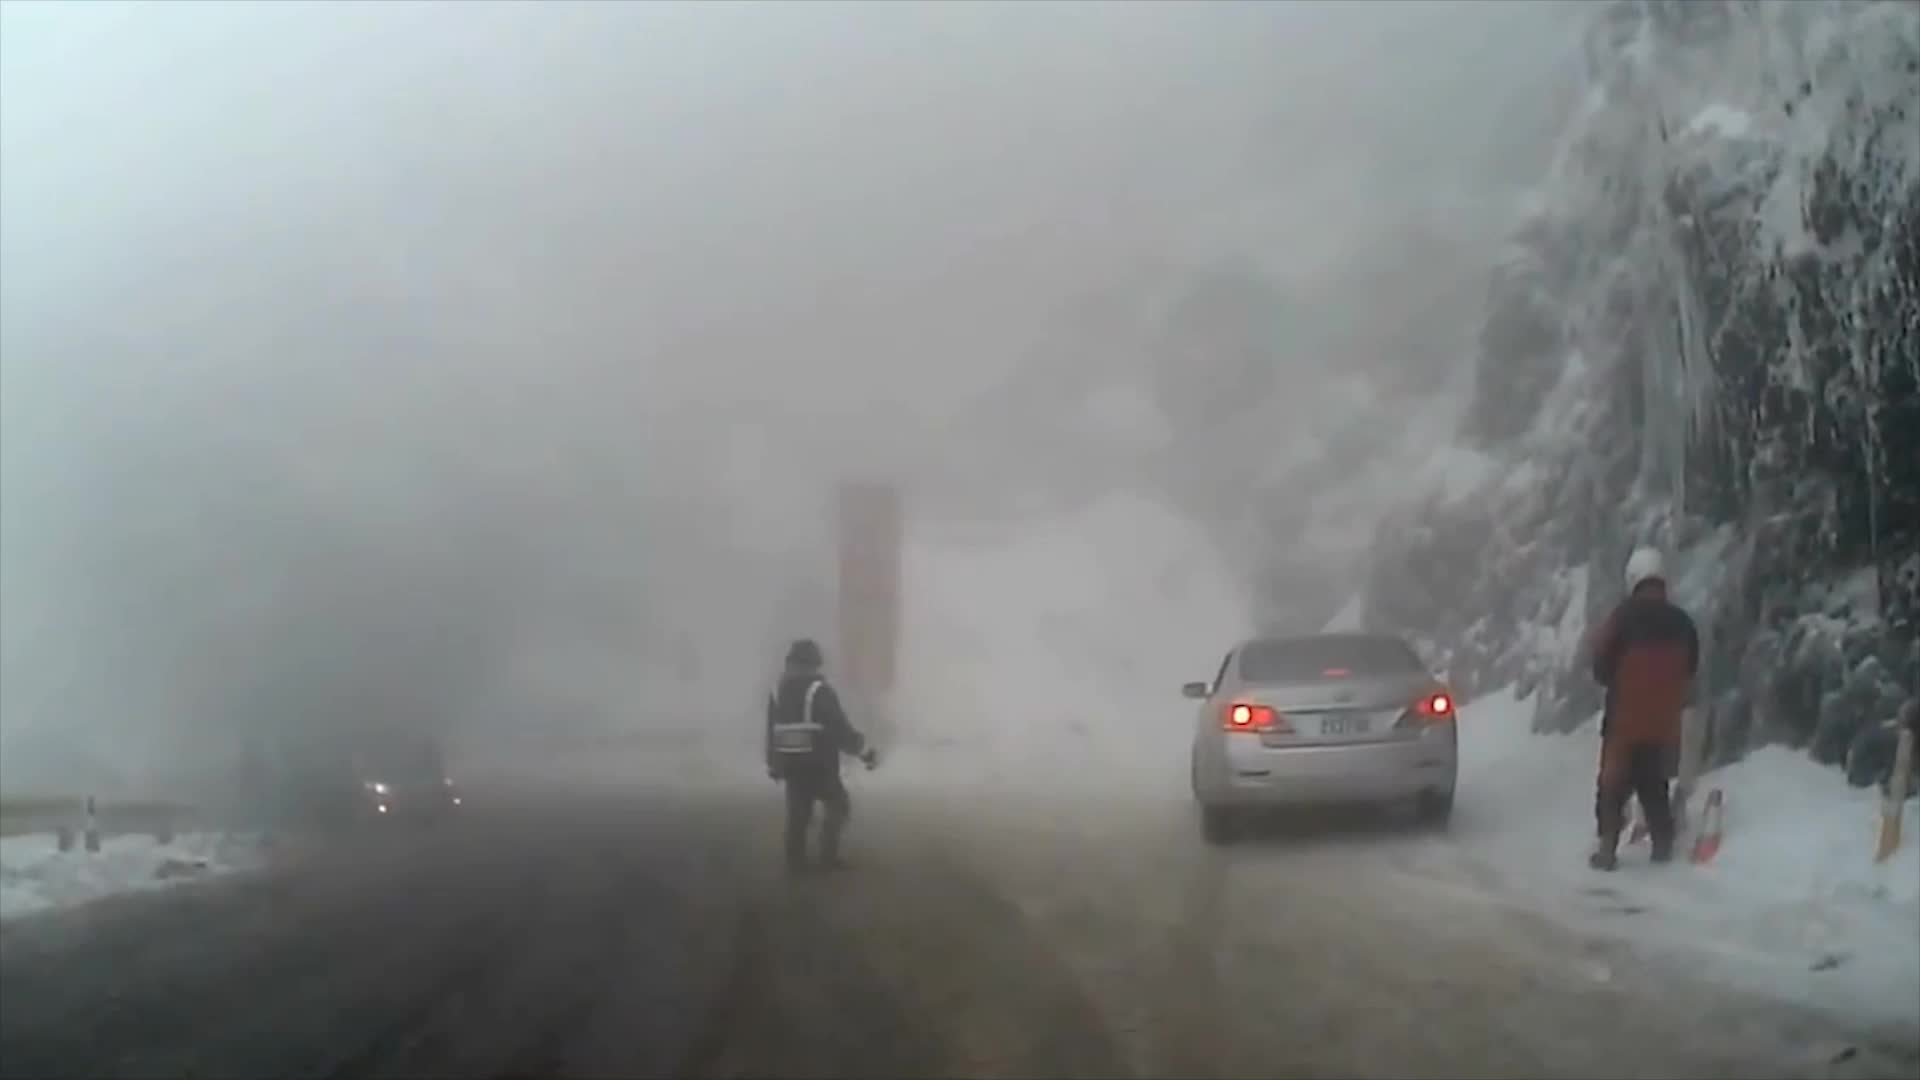pedestrian: (1588, 544, 1703, 878), (766, 644, 880, 877)
vehicle: (1178, 631, 1457, 848)
